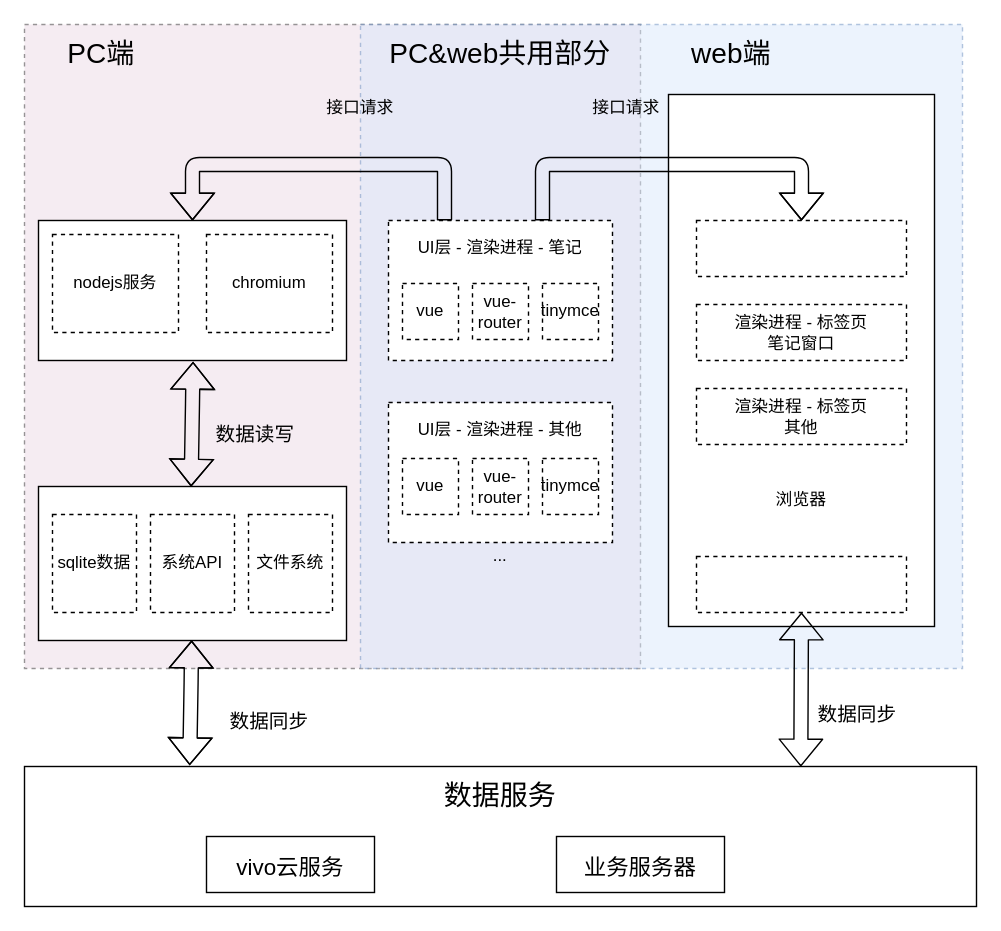
Image size: 1001x931. Some labels were removed from this diagram. The centre of each missing label's shape, as x and y in pixels:
"主进程 - 网络" belongs at point (800, 583).
"渲染进程 - 标签页 主程序窗口" belongs at point (800, 247).
